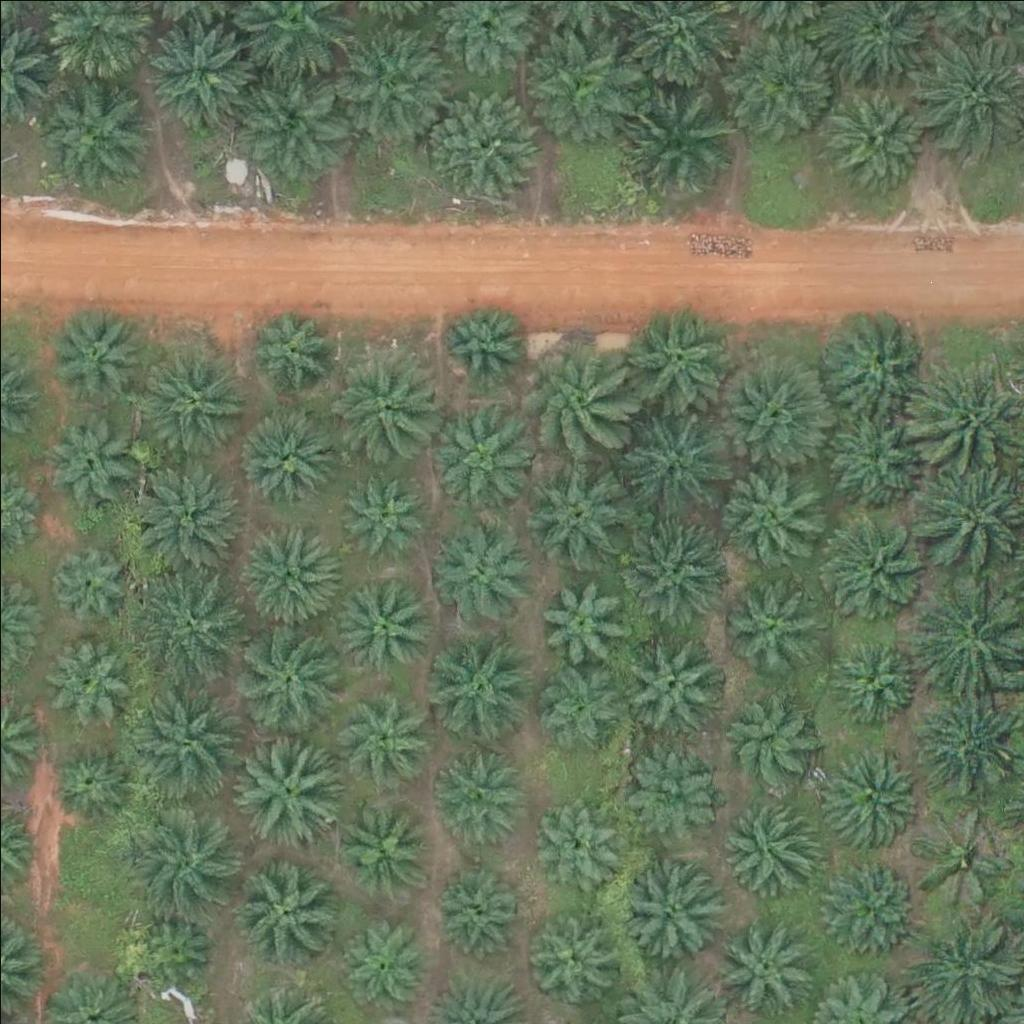Kelapa_Sawit: (511, 331, 636, 457), (37, 78, 150, 192), (139, 14, 252, 128), (125, 683, 238, 797), (228, 855, 341, 969), (426, 83, 539, 196), (528, 22, 641, 135), (725, 26, 838, 139), (235, 728, 348, 841), (619, 507, 732, 620), (619, 406, 732, 519), (623, 299, 736, 412), (330, 25, 442, 139), (138, 342, 250, 456), (236, 63, 348, 176), (617, 86, 729, 199), (123, 805, 235, 918), (135, 565, 247, 678), (127, 453, 239, 566), (233, 621, 345, 734), (323, 347, 435, 460), (524, 455, 636, 568), (715, 351, 827, 464), (821, 305, 933, 418), (830, 85, 930, 186), (45, 298, 145, 399), (234, 407, 334, 508), (331, 799, 431, 900), (329, 682, 429, 783), (333, 571, 433, 672), (428, 750, 528, 851), (429, 631, 529, 732), (432, 522, 532, 623), (520, 910, 620, 1011), (620, 855, 720, 956), (616, 626, 716, 727), (715, 913, 815, 1014), (723, 793, 823, 894), (718, 693, 818, 794), (722, 461, 822, 562), (817, 858, 917, 959), (820, 742, 920, 843), (821, 516, 921, 617), (235, 525, 335, 625), (427, 400, 527, 500), (624, 744, 724, 844), (820, 415, 920, 515), (908, 808, 1008, 908), (340, 913, 428, 1002), (41, 629, 129, 717), (45, 535, 133, 623), (127, 900, 215, 988), (245, 297, 333, 385), (435, 870, 523, 958), (830, 630, 918, 718), (334, 468, 421, 557), (47, 732, 134, 820), (46, 418, 133, 506), (439, 297, 526, 385), (535, 802, 622, 890), (535, 661, 622, 749), (538, 573, 625, 661), (727, 578, 814, 666)
